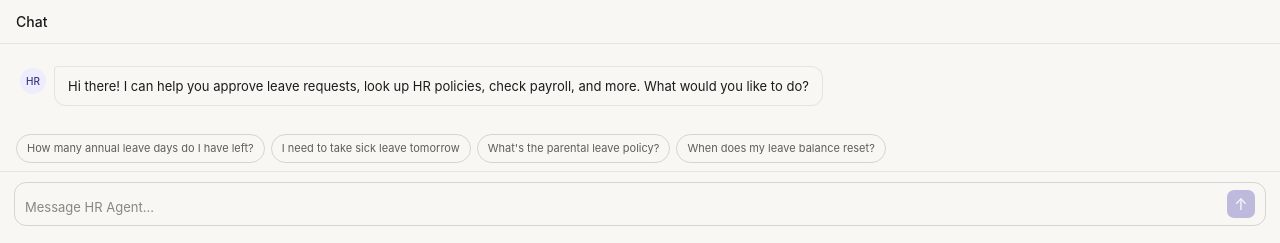
Scenario: ChatPage › send button is enabled after typing
Type "Hello" into the text box with placeholder "Message HR Agent...".
click(622, 208); type("Hello")  # box [25,198,1219,218]
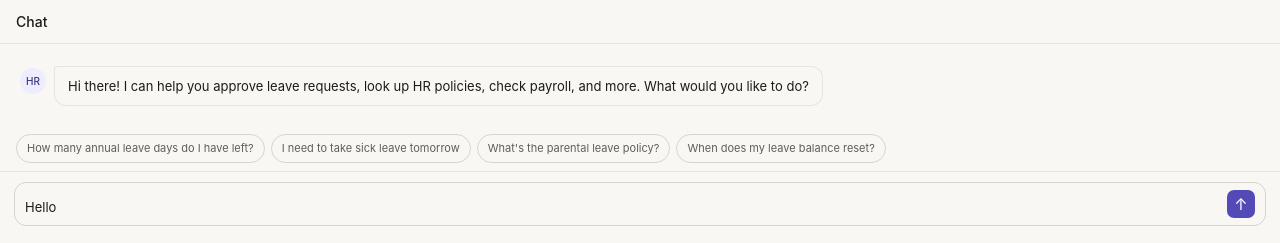
expect the button "↑" is enabled: met, box [1227,190,1255,218]
